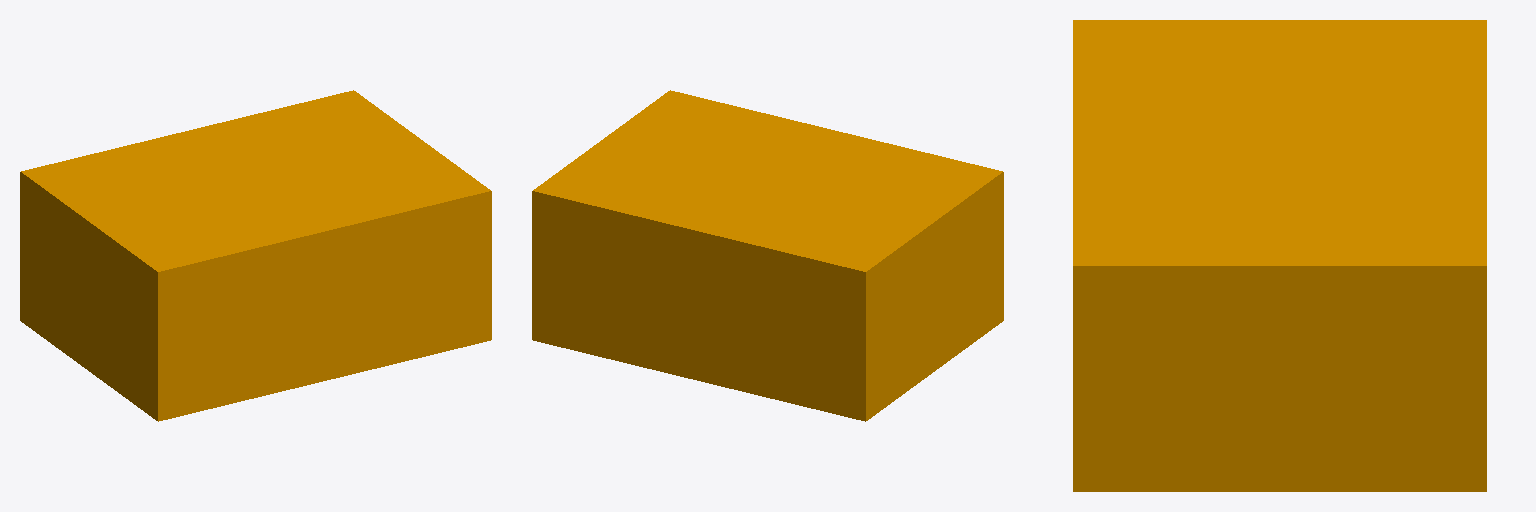
URDF robot description (parttoolgen_polyhaven_wood_table):
<?xml version="1.0"?>
<robot name="parttoolgen_polyhaven_wood_table">
  <link name="box">
    <visual>
      <origin xyz="0 0 0"/>
      <geometry>
        <mesh filename="parttoolgen_benchmark/tabletop_polyhaven_wood_table/tabletop_polyhaven_wood_table.obj" scale="1 1 1"/>
      </geometry>
    </visual>
    <collision>
      <origin xyz="0 0 0"/>
      <geometry>
        <box size="0.70 0.50 0.30"/>
      </geometry>
    </collision>
    <inertial>
      <mass value="500"/>
      <friction value="1.0"/>
      <inertia ixx="1000.0" ixy="0.0" ixz="0.0" iyy="1000.0" iyz="0.0" izz="1000.0"/>
    </inertial>
  </link>
</robot>

--- Facts derived from the render (not from the file) ---
3 views of the same robot in one strip: view 1: azimuth 30°, elevation 25°; view 2: azimuth 150°, elevation 25°; view 3: azimuth 270°, elevation 25° (orthographic).
Robot: parttoolgen_polyhaven_wood_table — 1 links, 0 joints (none); root link box; default pose: every joint at zero.
Visible links, largest first — view 1: box; view 2: box; view 3: box.
Link boxes in pixels (x1,y1,x2,y2): box: (20, 90, 491, 421); box: (532, 90, 1003, 421); box: (1073, 20, 1486, 491).
Size in the robot's own frame: 0.7 by 0.5 by 0.3 metres.
1 mesh visuals loaded from 1 distinct referenced files (1 OBJ).
